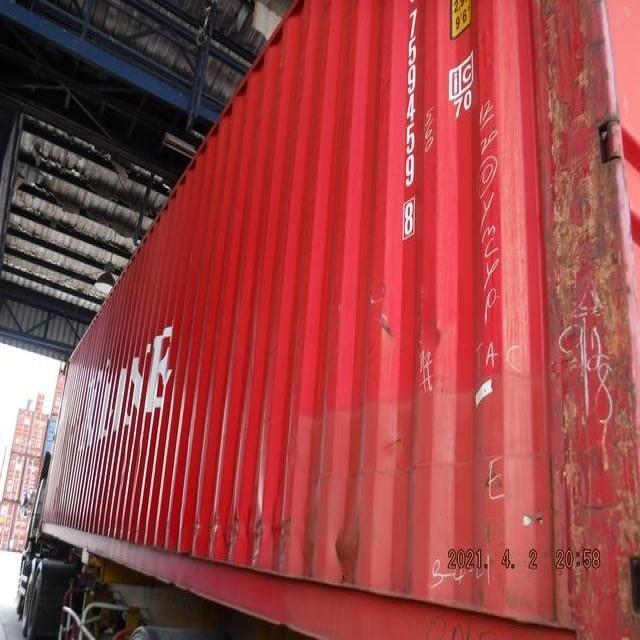dent: (187, 505, 380, 572)
